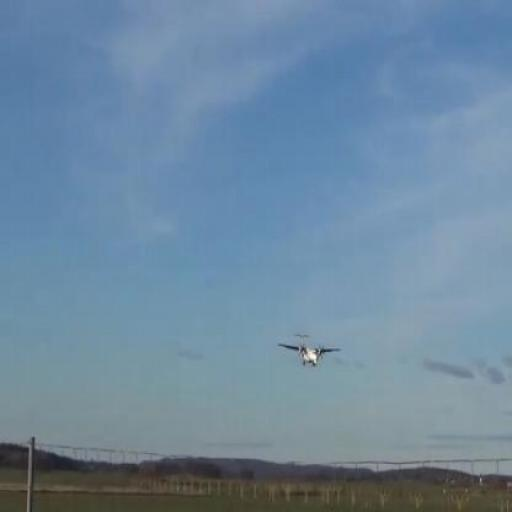aircraft: (278, 335, 344, 367)
